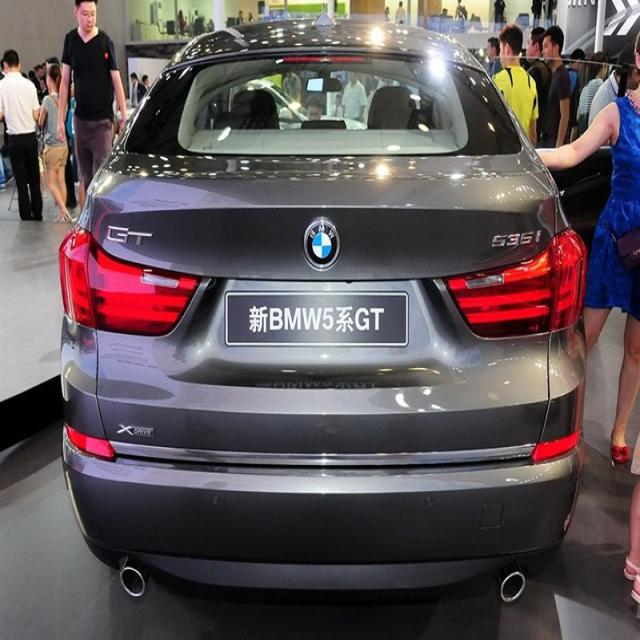back_glass: (121, 56, 523, 164)
back_left_side_light: (58, 221, 204, 342)
back_right_side_light: (443, 219, 592, 343)
rear_bumper: (61, 361, 590, 570)
